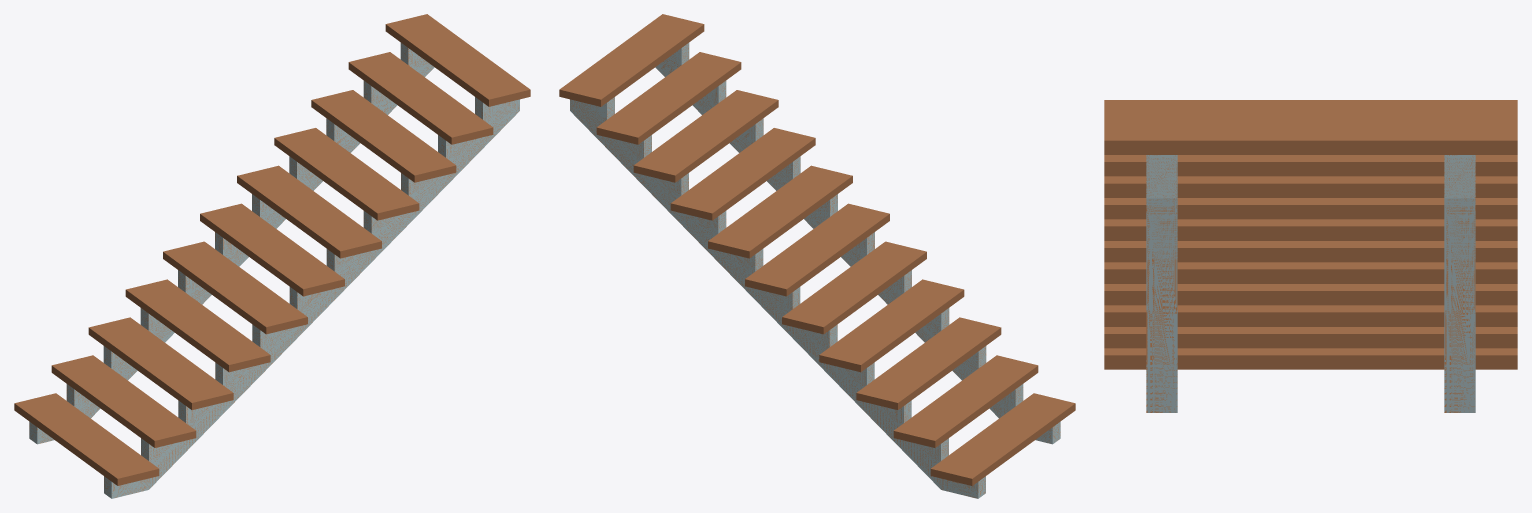
File: stairsOpen.dae
3 views of the same model, side by side, from view 1: azimuth 30°, elevation 25°; view 2: azimuth 150°, elevation 25°; view 3: azimuth 270°, elevation 25° (orthographic). The views are drawn at different scales.
Parts seen in each view (by area): view 1: stairsOpen, Group (×2); view 2: stairsOpen, Group (×2); view 3: stairsOpen, Group (×2).
Boxes of the visible parts, x1=… form: stairsOpen: x1=14, y1=14, x2=530, y2=485; Group (×2): x1=29, y1=42, x2=519, y2=498; stairsOpen: x1=559, y1=14, x2=1075, y2=485; Group (×2): x1=570, y1=42, x2=1060, y2=498; stairsOpen: x1=1104, y1=100, x2=1517, y2=369; Group (×2): x1=1146, y1=155, x2=1475, y2=412.
Bounding box in the file's own units: 1.82 × 1.34 × 0.79.
